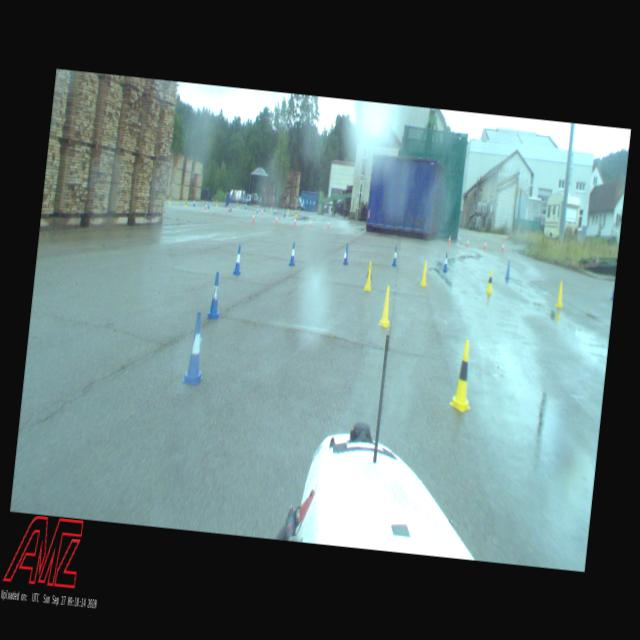blue_cone: (182, 311, 209, 384), (206, 270, 224, 320), (232, 244, 244, 276), (288, 240, 297, 266), (342, 242, 350, 264), (504, 260, 512, 280), (391, 246, 398, 266), (442, 252, 449, 272), (610, 282, 614, 298), (192, 199, 195, 206), (207, 201, 210, 208), (283, 210, 286, 217), (230, 204, 232, 212), (256, 206, 258, 214), (273, 208, 275, 215)
orange_cone: (308, 218, 312, 228), (326, 218, 329, 228), (501, 242, 504, 251), (275, 215, 278, 224), (293, 217, 296, 226), (204, 202, 207, 210), (484, 240, 486, 250), (252, 212, 254, 222), (448, 234, 450, 244), (466, 238, 468, 246), (260, 208, 262, 215), (228, 204, 230, 211)
yellow_cone: (448, 338, 478, 413), (378, 285, 393, 327), (364, 260, 374, 292), (419, 260, 429, 286), (555, 280, 564, 308), (485, 269, 494, 293), (185, 199, 188, 207), (215, 199, 218, 206), (287, 207, 289, 214), (176, 197, 178, 204), (296, 210, 298, 217), (294, 210, 296, 217), (168, 197, 170, 203), (170, 198, 172, 204), (236, 202, 238, 208), (270, 206, 272, 212)
